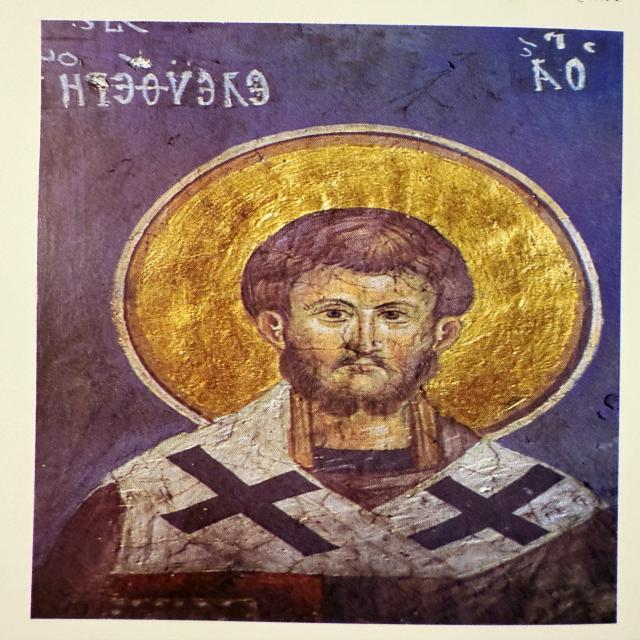aura: (110, 125, 602, 448)
church_father: (39, 127, 606, 618)
